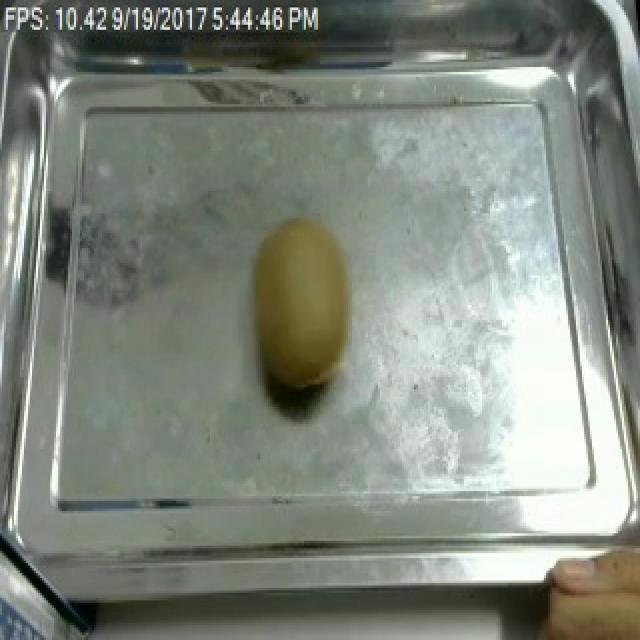Fruit: (242, 208, 364, 402), (514, 533, 640, 640)
